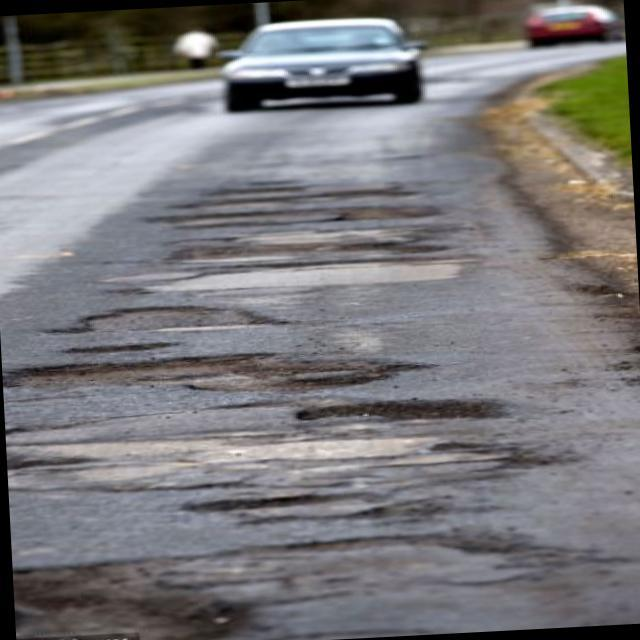Pothole: (5, 399, 544, 492), (20, 336, 488, 430), (59, 276, 379, 347), (111, 247, 483, 300), (274, 385, 510, 439), (154, 192, 442, 230), (167, 227, 411, 260), (222, 167, 386, 210), (41, 332, 174, 351)
